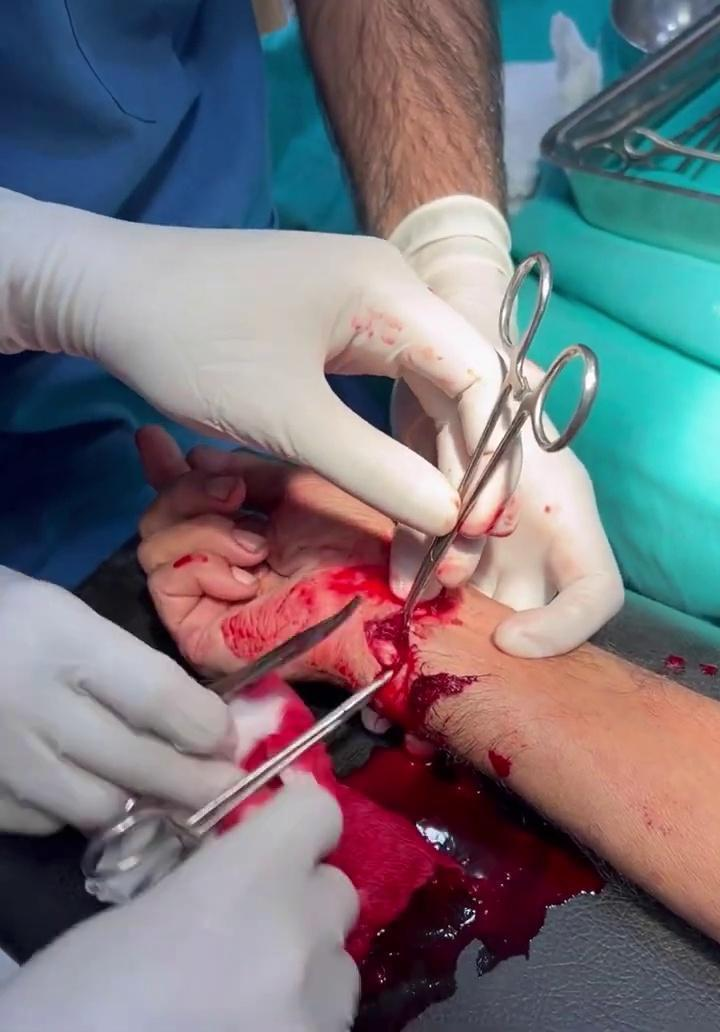Fire: (298, 612, 606, 1032), (339, 744, 604, 1032), (326, 785, 438, 963), (322, 535, 475, 627), (222, 583, 323, 666), (245, 676, 316, 773), (408, 675, 478, 726), (215, 777, 283, 825), (364, 611, 408, 670), (170, 555, 216, 599), (291, 744, 332, 787)
